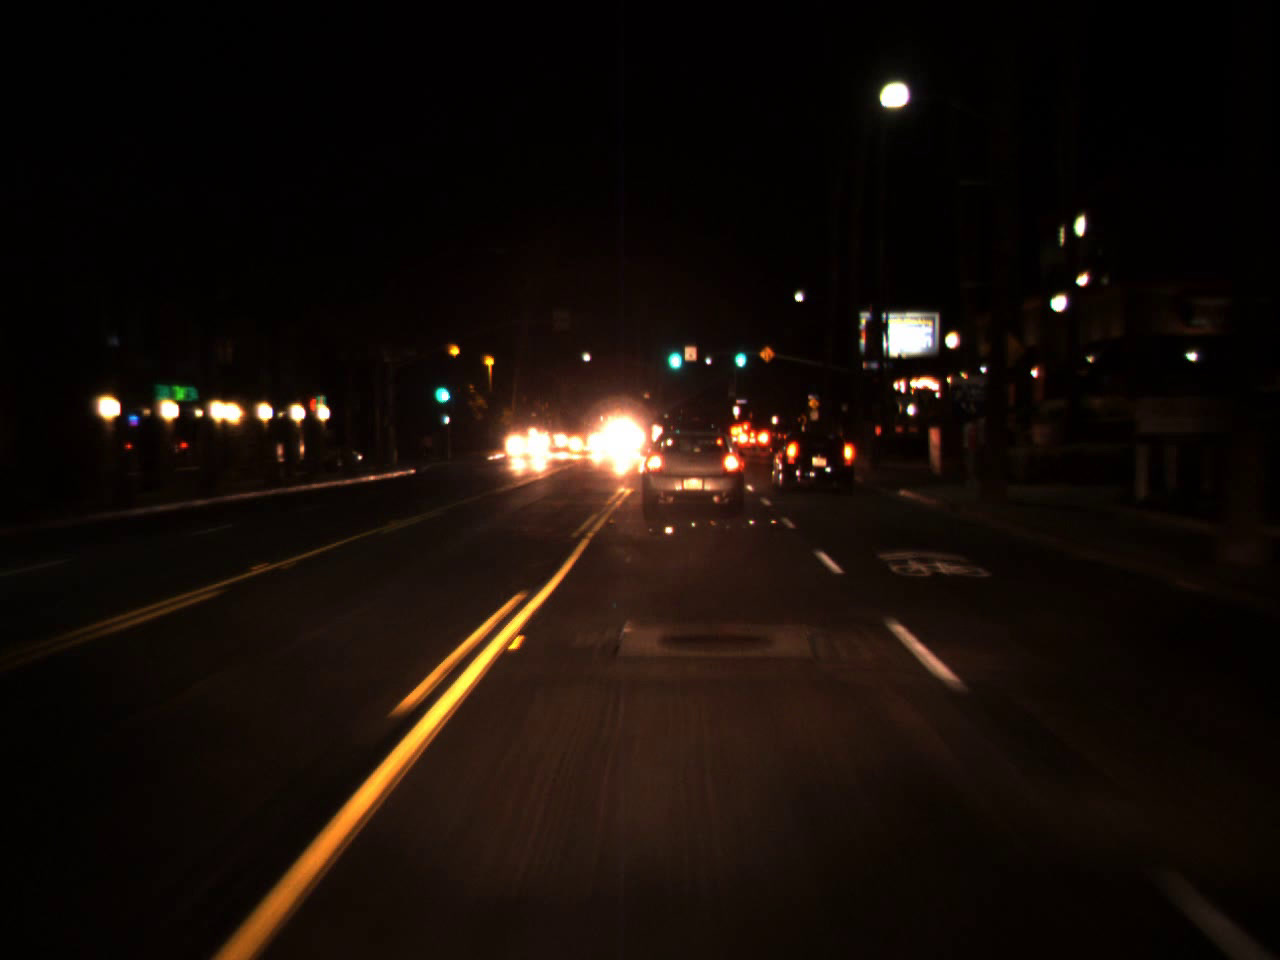go: (664, 333, 683, 375), (430, 367, 449, 409), (729, 335, 748, 371)
